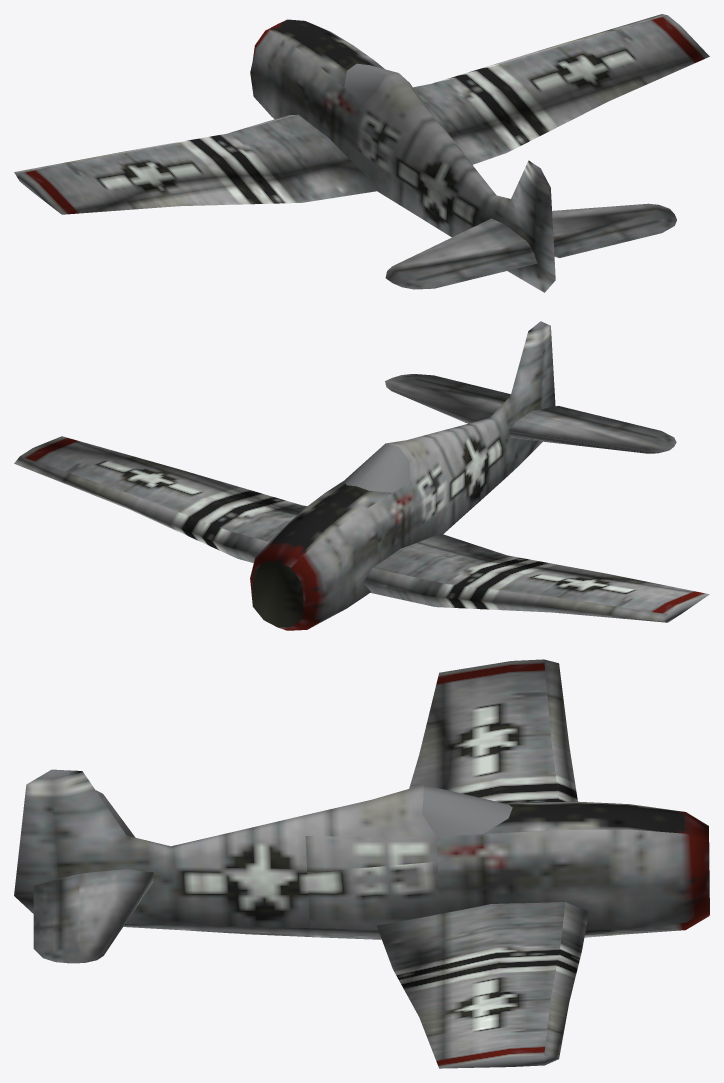
File: Icon.ico.obj
3 views of the same model, one above another, from view 1: azimuth 30°, elevation 25°; view 2: azimuth 150°, elevation 25°; view 3: azimuth 270°, elevation 25° (orthographic). The views are drawn at different scales.
Size of the model in its own units: 3.24 by 0.6555 by 2.41.
Materials: 1 (1 with a texture image).
